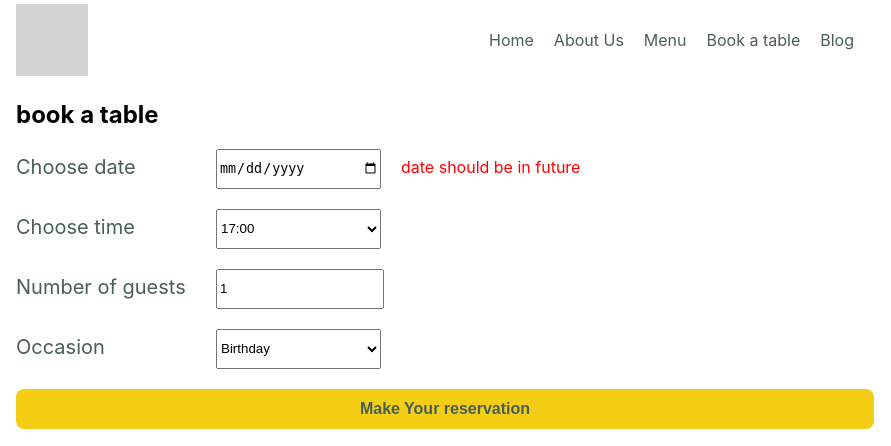
Test: renders booking page number of guests error
Type "-3" into the number field with test id "guests" at (300, 289), box [216, 269, 384, 309]
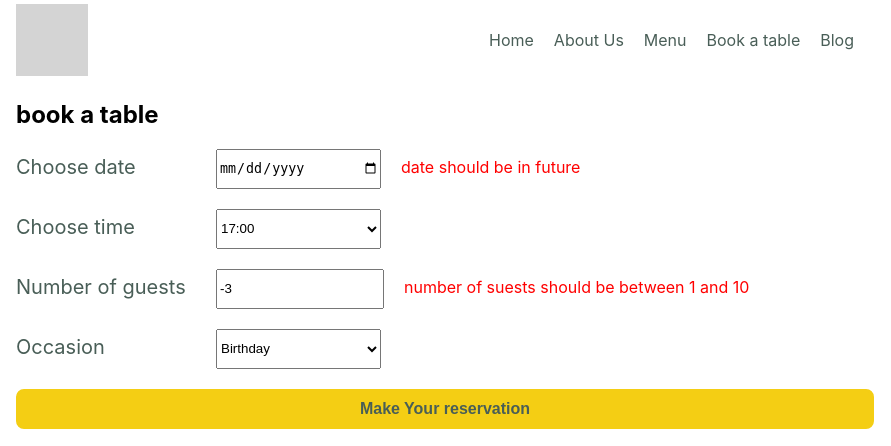
Expected: the text "number of suests should be between 1 and 10" is shown, [384, 277, 749, 297]
